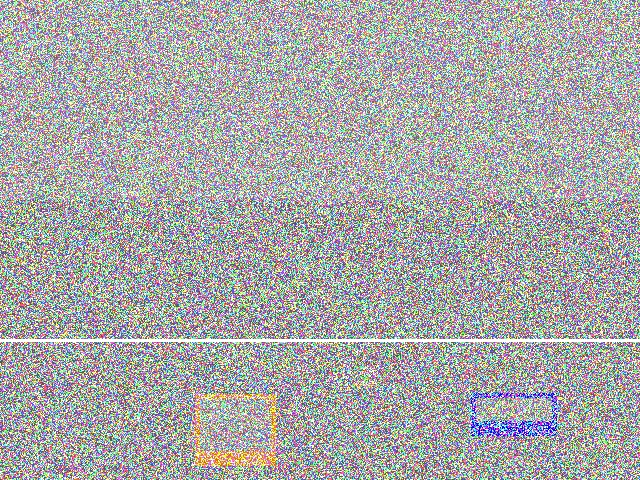car: (435, 282, 595, 379)
truck: (104, 274, 242, 371)
